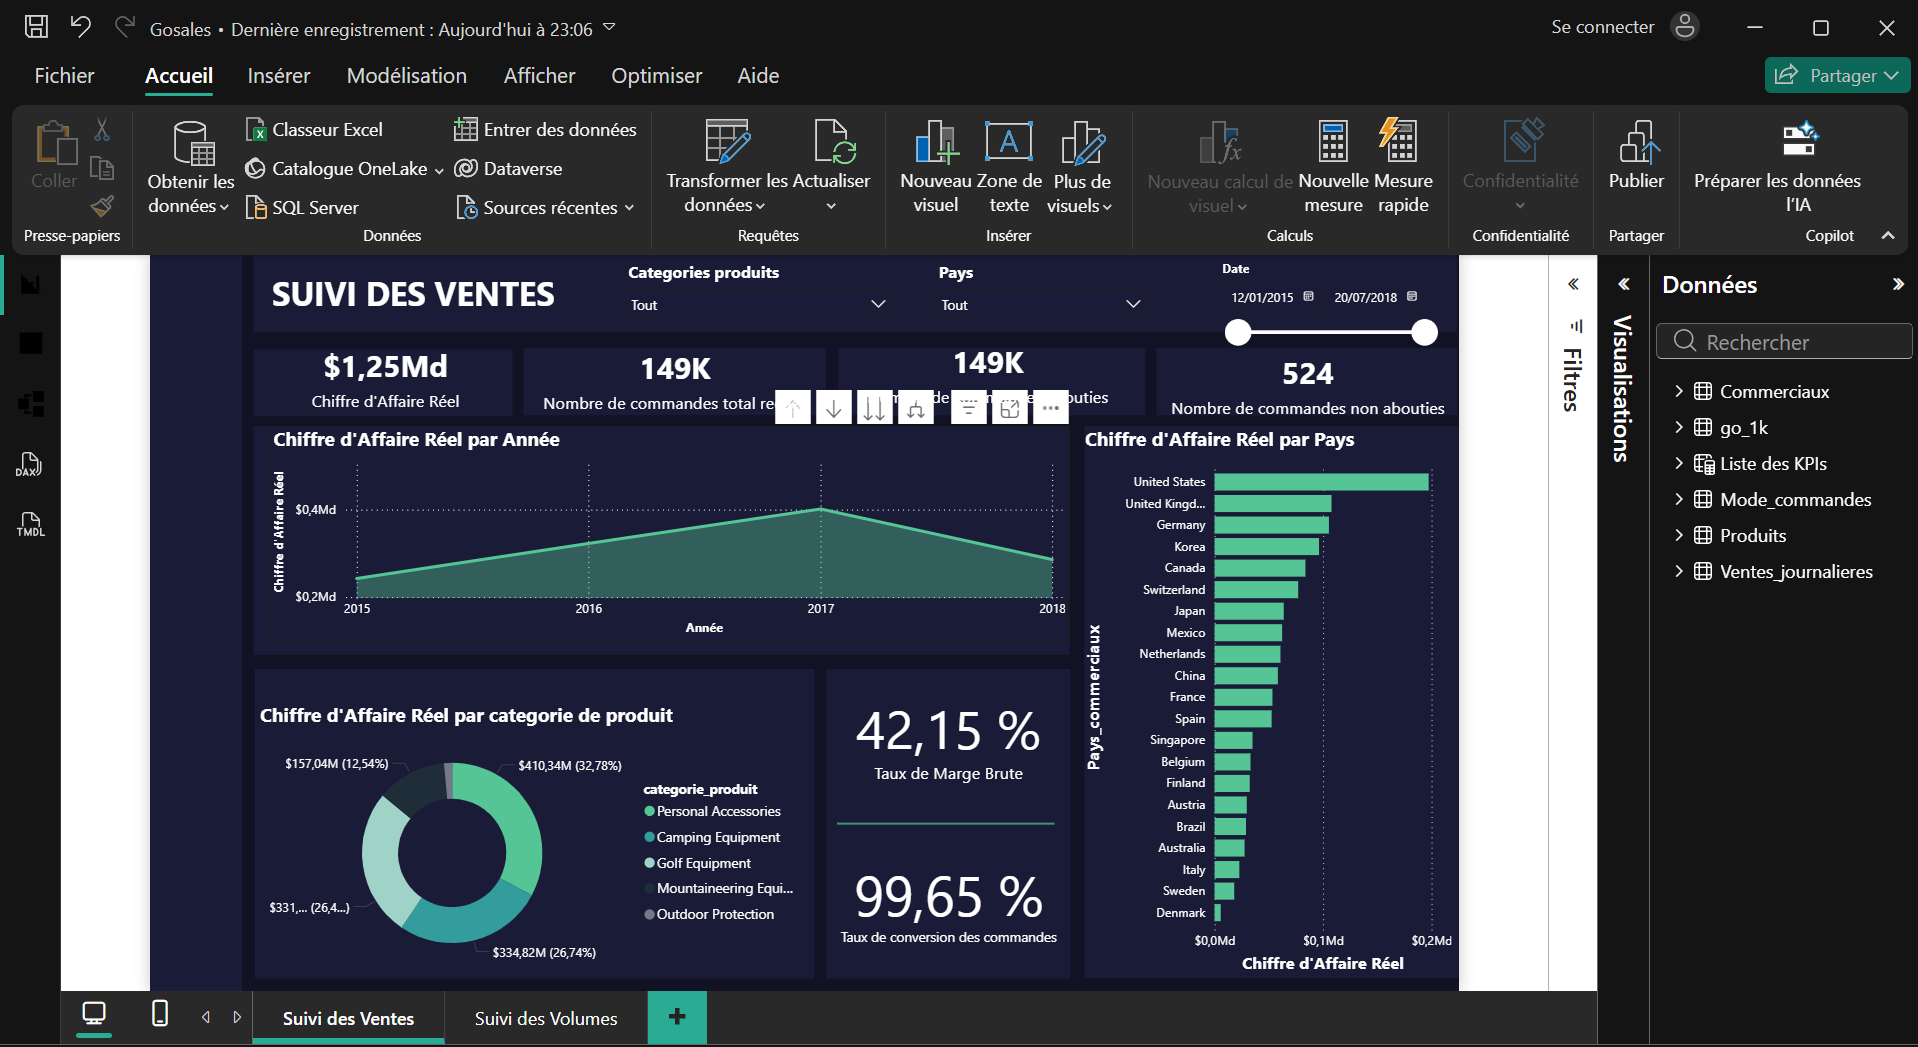

This screenshot's page, from the dashboard's own definition file:
{"tool":"powerbi","page":{"name":"Ventes","canvas":[1280,720],"ordinal":0},"visuals":[{"type":"shape","box":[0,0,90,720],"z":0},{"type":"shape","box":[101.4,0,1177.1,75.7],"z":1000},{"type":"shape","box":[100.9,92.1,253.5,65.6],"z":2000},{"type":"shape","box":[365.7,91.4,295.7,65.7],"z":3000},{"type":"shape","box":[672.9,91.4,300,65.7],"z":4000},{"type":"shape","box":[984.3,91.4,294.3,65.7],"z":5000},{"type":"shape","box":[101.4,167.1,798.6,224.3],"z":6000},{"type":"shape","box":[102.9,404.3,547.1,302.9],"z":7000},{"type":"shape","box":[914.3,167.1,365.7,540],"z":8000},{"type":"textbox","box":[115,10,316.2,66.2],"z":9000},{"type":"card","fields":{"Values":["Liste des KPIs.Chiffre d'Affaire Réel"]},"box":[102.2,80.7,254.7,76.9],"z":10000},{"type":"areaChart","fields":{"Category":["Ventes_journalieres.Date.Variation.Hiérarchie de dates.Année","Ventes_journalieres.Date.Variation.Hiérarchie de dates.Trimestre","Ventes_journalieres.Date.Variation.Hiérarchie de dates.Mois"],"Y":["Liste des KPIs.Chiffre d'Affaire Réel"]},"box":[115.7,167.1,784.3,210],"z":11000},{"type":"shape","box":[661.4,404.3,238.6,302.9],"z":12000},{"type":"slicer","fields":{"Values":["Commerciaux.Pays_commerciaux"]},"box":[757.9,0,225.7,65.6],"z":13000},{"type":"slicer","fields":{"Values":["Ventes_journalieres.Date"]},"box":[1035.4,0,232,92.1],"z":14000},{"type":"slicer","fields":{"Values":["Produits.categorie_produit"]},"box":[455.3,0,280,65.6],"z":15000},{"type":"card","fields":{"Values":["Liste des KPIs.Nombre de commandes total reçues"]},"box":[365.7,85.7,295.7,71.4],"z":16000},{"type":"card","fields":{"Values":["Liste des KPIs.Nombre de commandes abouties"]},"box":[672.9,75.7,291.4,77.1],"z":17000},{"type":"card","fields":{"Values":["Liste des KPIs.Nombre de commandes non abouties"]},"box":[984.3,85.7,295.7,81.4],"z":18000},{"type":"clusteredBarChart","title":"Chiffre d''Affaire Réel par Pays","fields":{"Y":["Liste des KPIs.Chiffre d'Affaire Réel"],"Category":["Commerciaux.Pays_commerciaux"]},"box":[910,167.1,368.6,540],"z":19000},{"type":"donutChart","title":"Chiffre d''Affaire Réel par categorie de produit","fields":{"Y":["Liste des KPIs.Chiffre d'Affaire Réel"],"Category":["Produits.categorie_produit"]},"box":[102.9,437.1,547.1,270],"z":20000},{"type":"card","fields":{"Values":["Liste des KPIs.Taux de Marge Brute"]},"box":[661.4,404.3,238.6,132.9],"z":21000},{"type":"shape","box":[671.4,534.3,212.9,44.3],"z":22000},{"type":"card","fields":{"Values":["Liste des KPIs.Taux de conversion des commandes"]},"box":[661.4,554.3,238.6,155.7],"z":23000}]}

Visuals, with their boxes on the page's 1280x720 design canvas (x1, y1, x2, y2). These are canvas units, not pixel positions in the 1918x1047 screenshot, which may show the page scaled, cropped or inside an application window:
shape: (0, 0, 90, 720)
shape: (101, 0, 1278, 76)
shape: (101, 92, 354, 158)
shape: (366, 91, 661, 157)
shape: (673, 91, 973, 157)
shape: (984, 91, 1279, 157)
shape: (101, 167, 900, 391)
shape: (103, 404, 650, 707)
shape: (914, 167, 1280, 707)
textbox: (115, 10, 431, 76)
card - Liste des KPIs.Chiffre d'Affaire Réel: (102, 81, 357, 158)
areaChart - Ventes_journalieres.Date.Variation.Hiérarchie de dates.Année x Ventes_journalieres.Date.Variation.Hiérarchie de dates.Trimestre: (116, 167, 900, 377)
shape: (661, 404, 900, 707)
slicer - Commerciaux.Pays_commerciaux: (758, 0, 984, 66)
slicer - Ventes_journalieres.Date: (1035, 0, 1267, 92)
slicer - Produits.categorie_produit: (455, 0, 735, 66)
card - Liste des KPIs.Nombre de commandes total reçues: (366, 86, 661, 157)
card - Liste des KPIs.Nombre de commandes abouties: (673, 76, 964, 153)
card - Liste des KPIs.Nombre de commandes non abouties: (984, 86, 1280, 167)
"Chiffre d''Affaire Réel par Pays" clusteredBarChart: (910, 167, 1279, 707)
"Chiffre d''Affaire Réel par categorie de produit" donutChart: (103, 437, 650, 707)
card - Liste des KPIs.Taux de Marge Brute: (661, 404, 900, 537)
shape: (671, 534, 884, 579)
card - Liste des KPIs.Taux de conversion des commandes: (661, 554, 900, 710)
